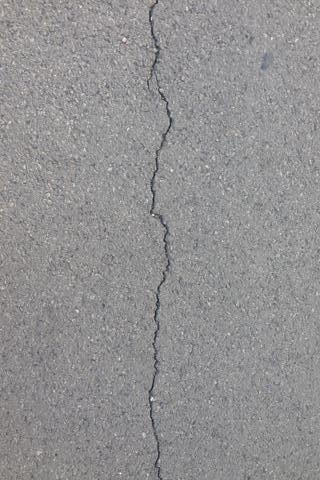A: (136, 1, 179, 479)
